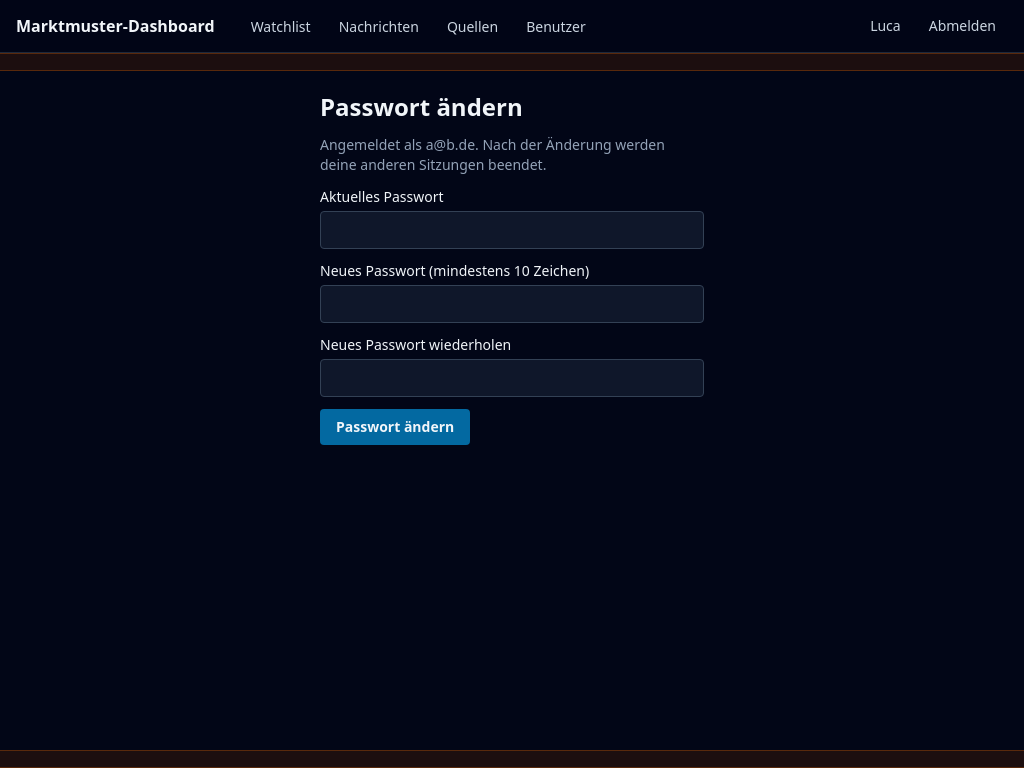
it: Passwortwechsel › zeigt den Servertext bei falschem aktuellem Passwort
Type "falsch-falsch" into the password field labelled "Aktuelles Passwort" at (512, 230), box [320,211,704,249]
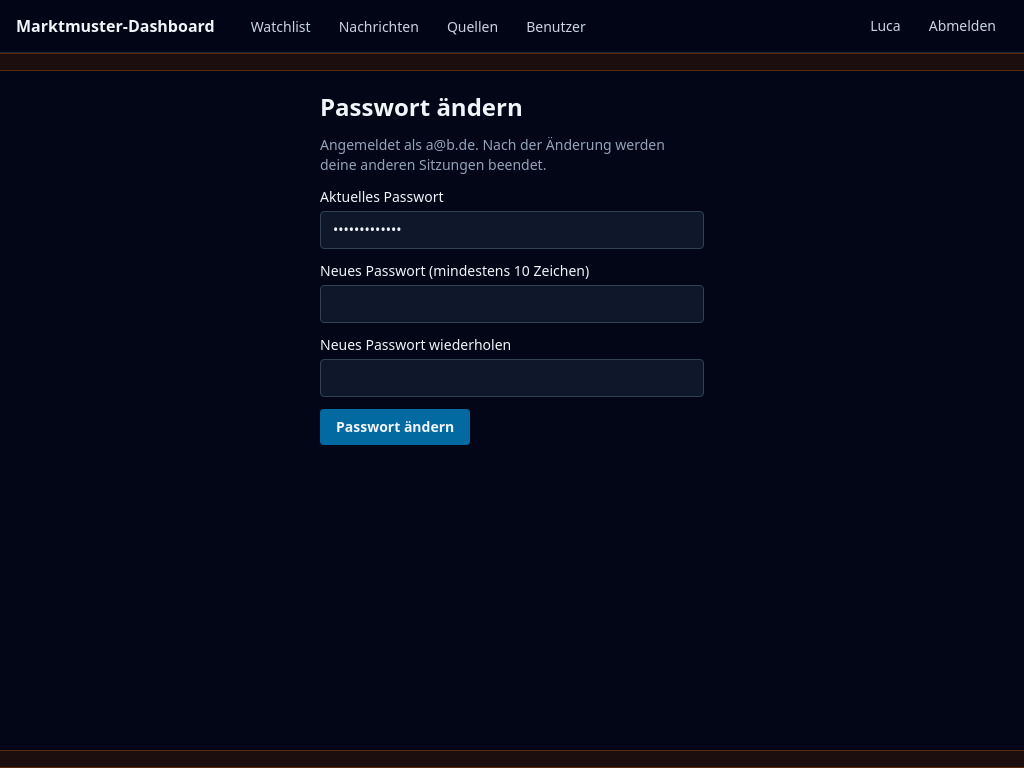
Type "neues-passwort-1" into the password field labelled "Neues Passwort (mindestens 10 Zeichen)" at (512, 304), box [320,285,704,323]
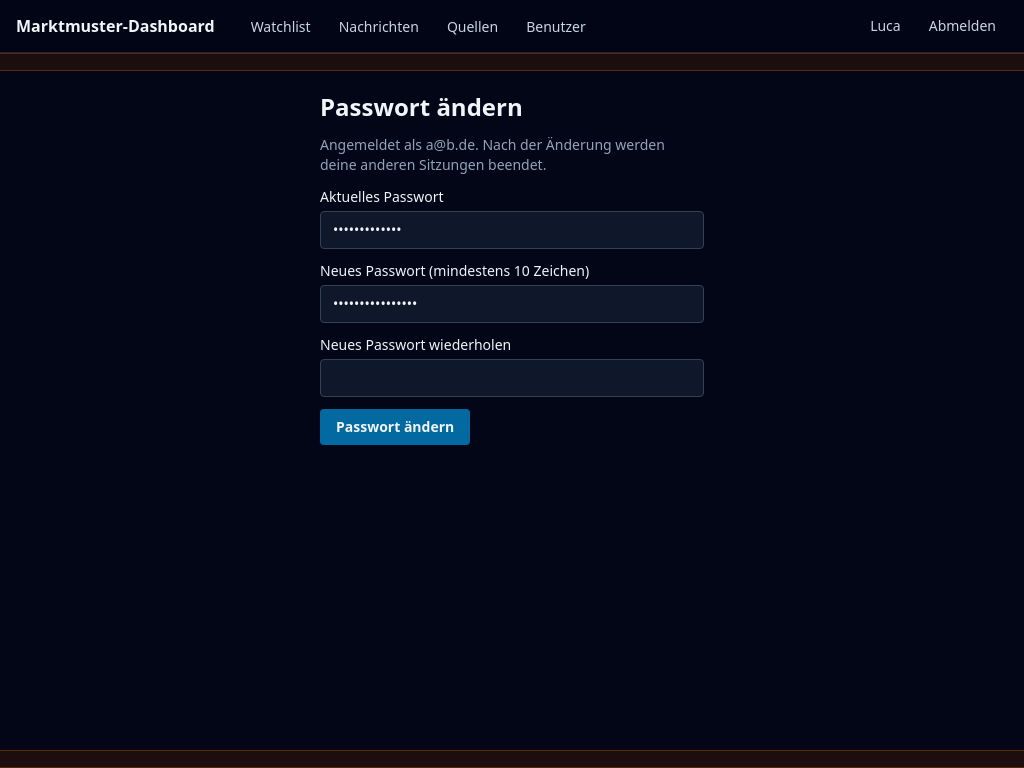
Type "neues-passwort-1" into the password field labelled "Neues Passwort wiederholen" at (512, 378), box [320,359,704,397]
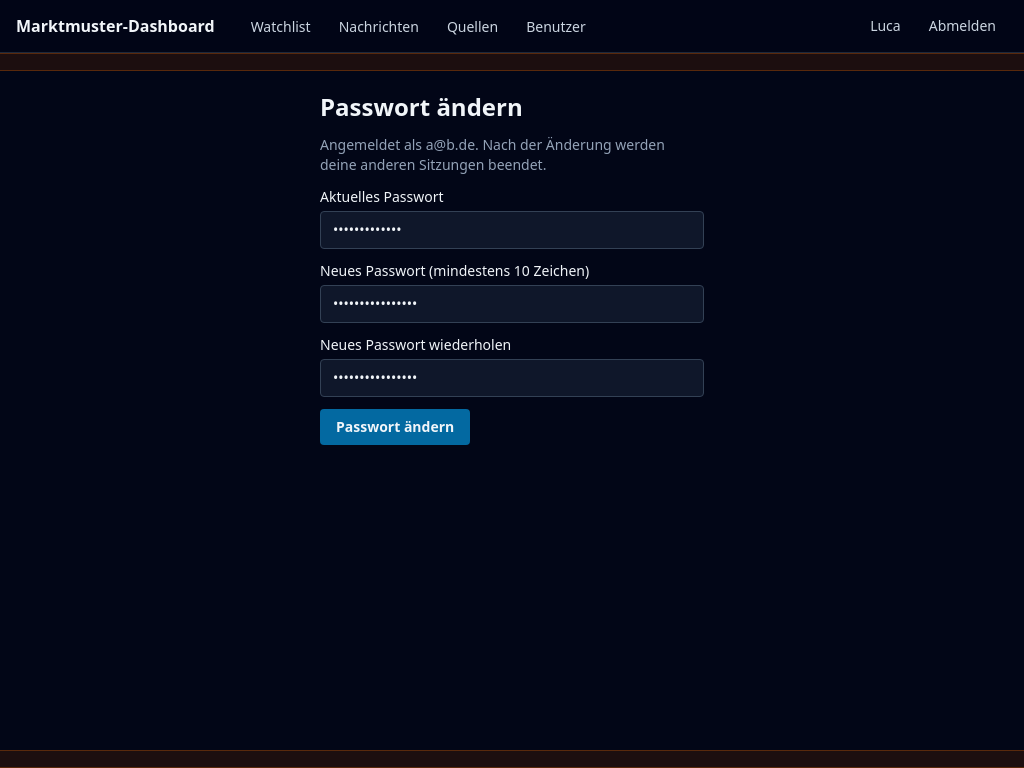
Click the button "Passwort ändern" at (395, 427), box [320,409,470,445]
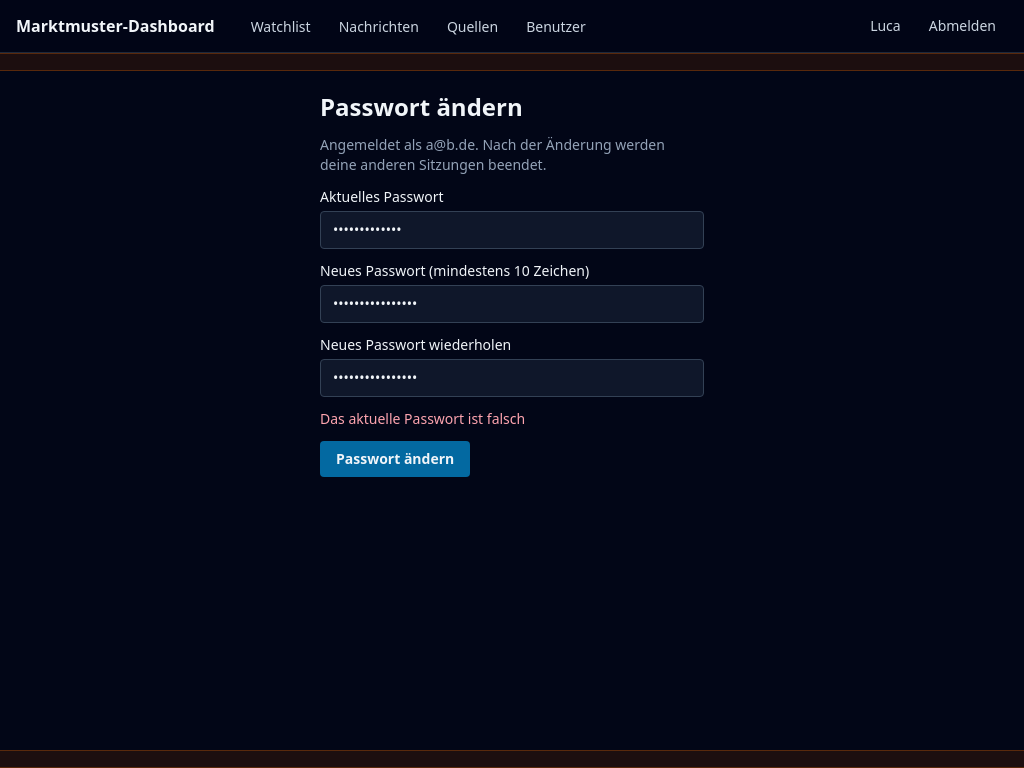
Expected: the message shows "aktuelle Passwort ist falsch", [320,409,525,428]
